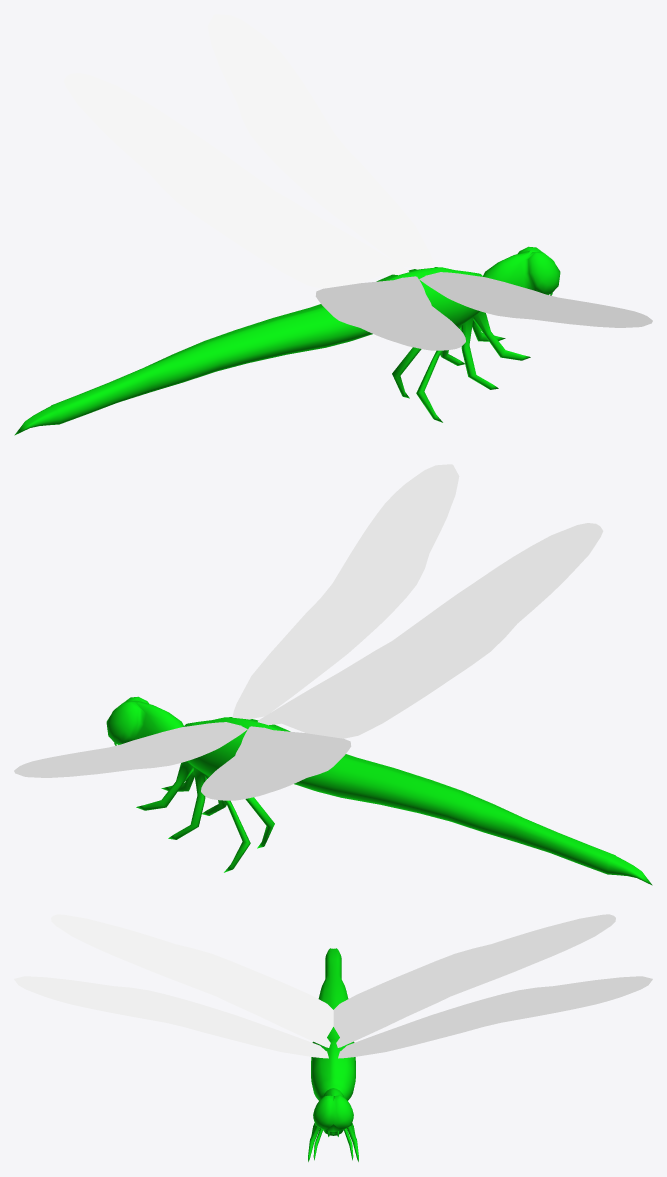
3 renders of one model, top to bottom at view 1: azimuth 30°, elevation 25°; view 2: azimuth 150°, elevation 25°; view 3: azimuth 270°, elevation 25°, orthographic. The views are drawn at different scales.
Visible parts, largest first — view 1: Plane005; view 2: Plane005; view 3: Plane005.
Part boxes in pixels (x1,y1,x2,y2): Plane005: (14, 14, 652, 435); Plane005: (14, 464, 652, 885); Plane005: (14, 914, 652, 1161).
Bounding box in the file's own units: 57.72 × 24.38 × 78.66.
